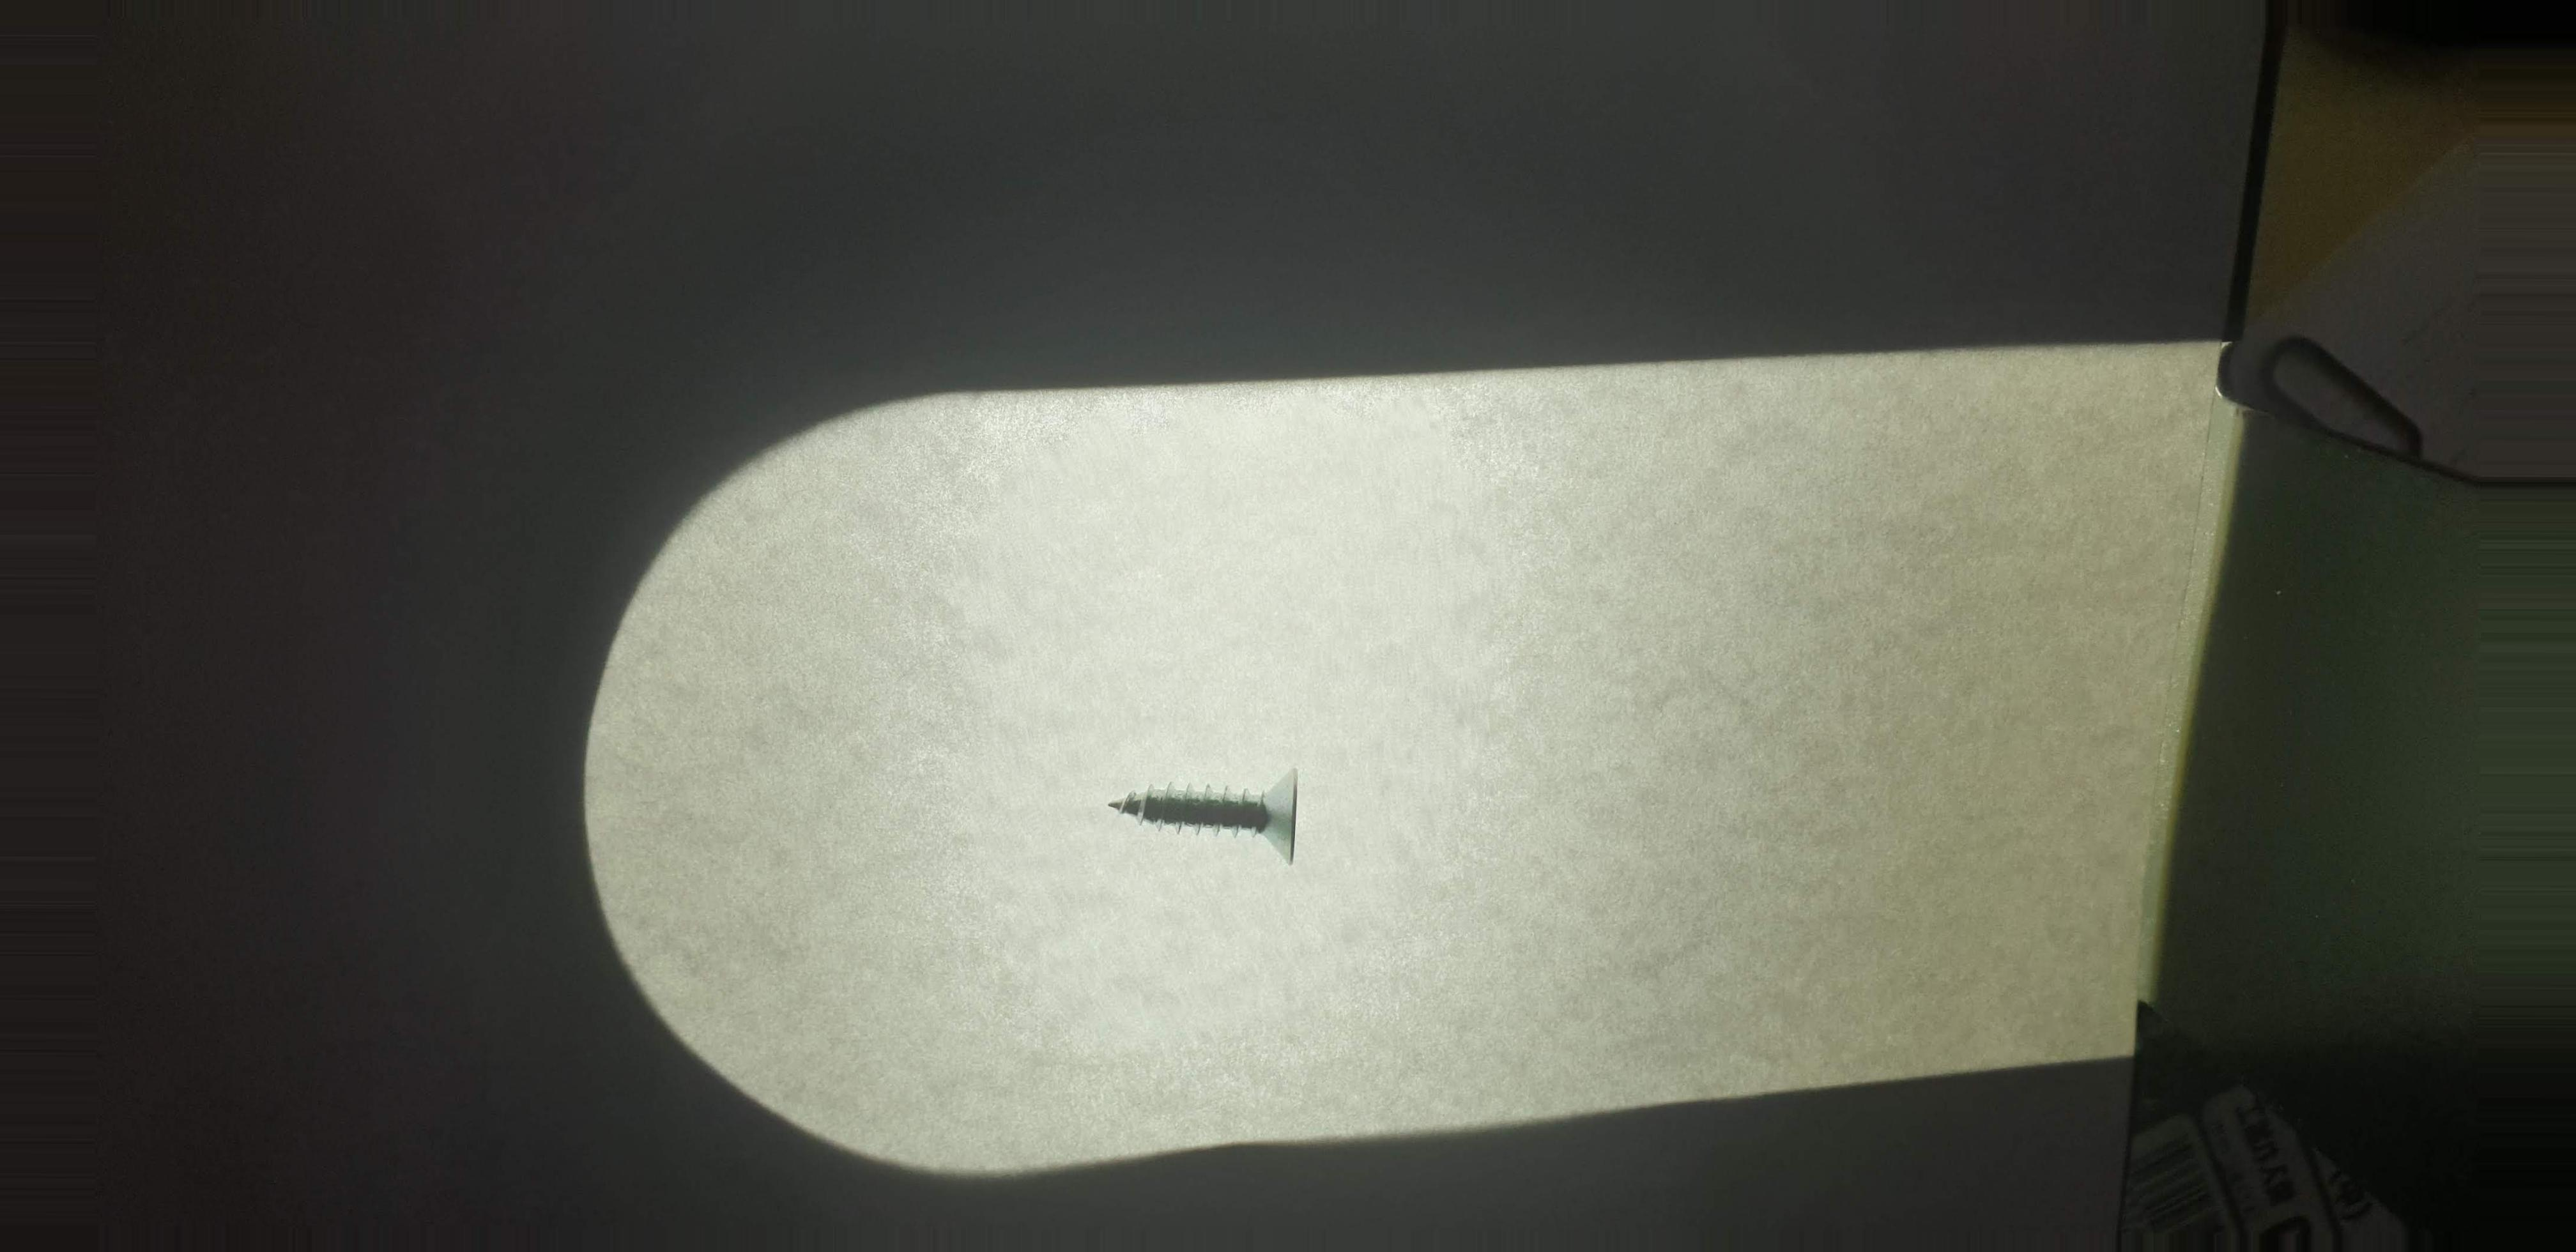S003: (1097, 749, 1341, 889)
